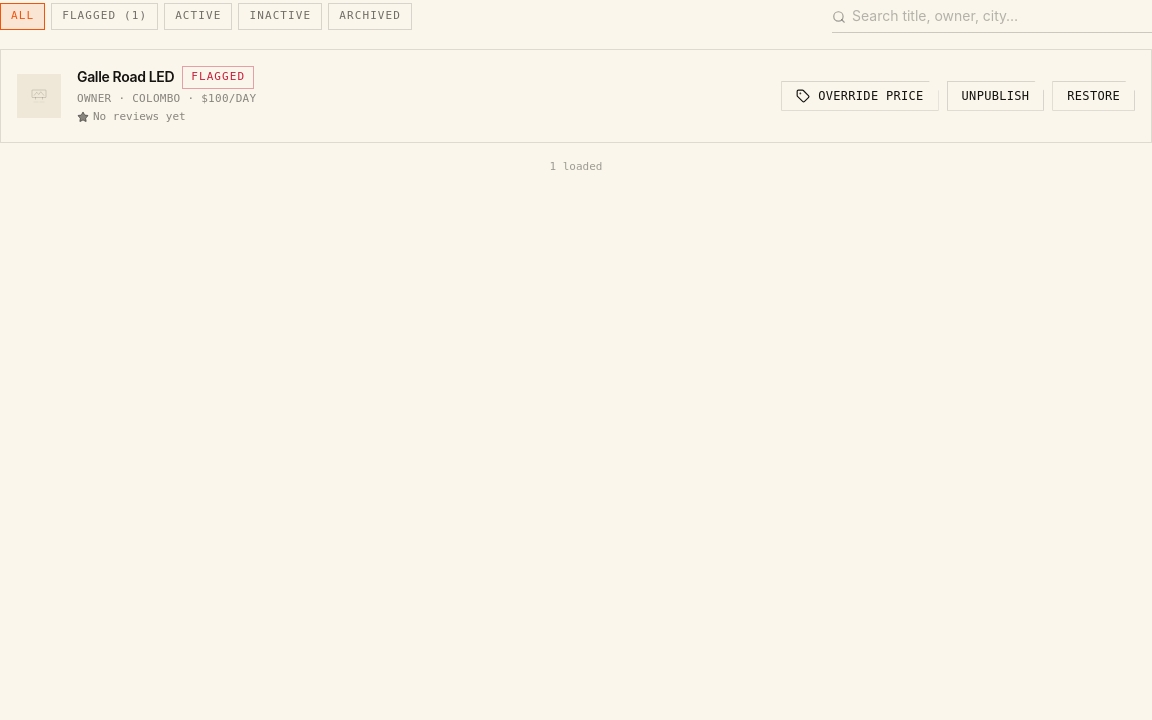
it: ModerationPanel › keeps the dialog open and shows the server error when the change fails
Click the button "Restore" at (1094, 96), box [1052,81,1135,111]
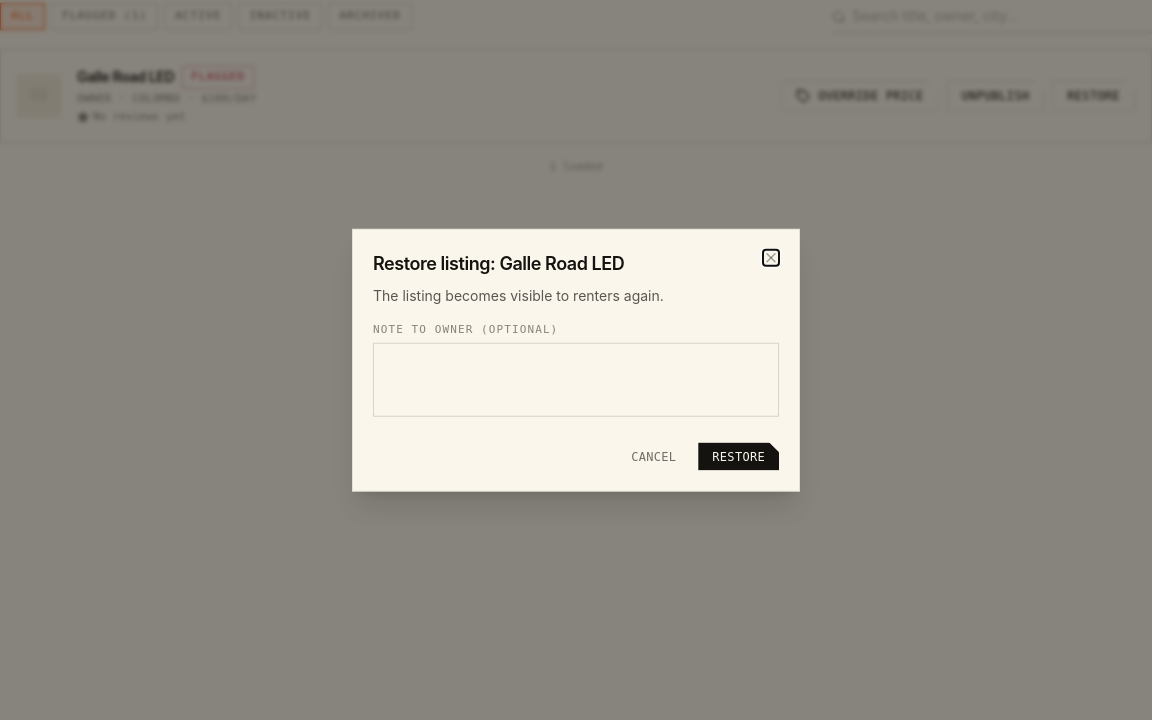
Click the button "Restore" at (739, 456), box [698,442,779,470]
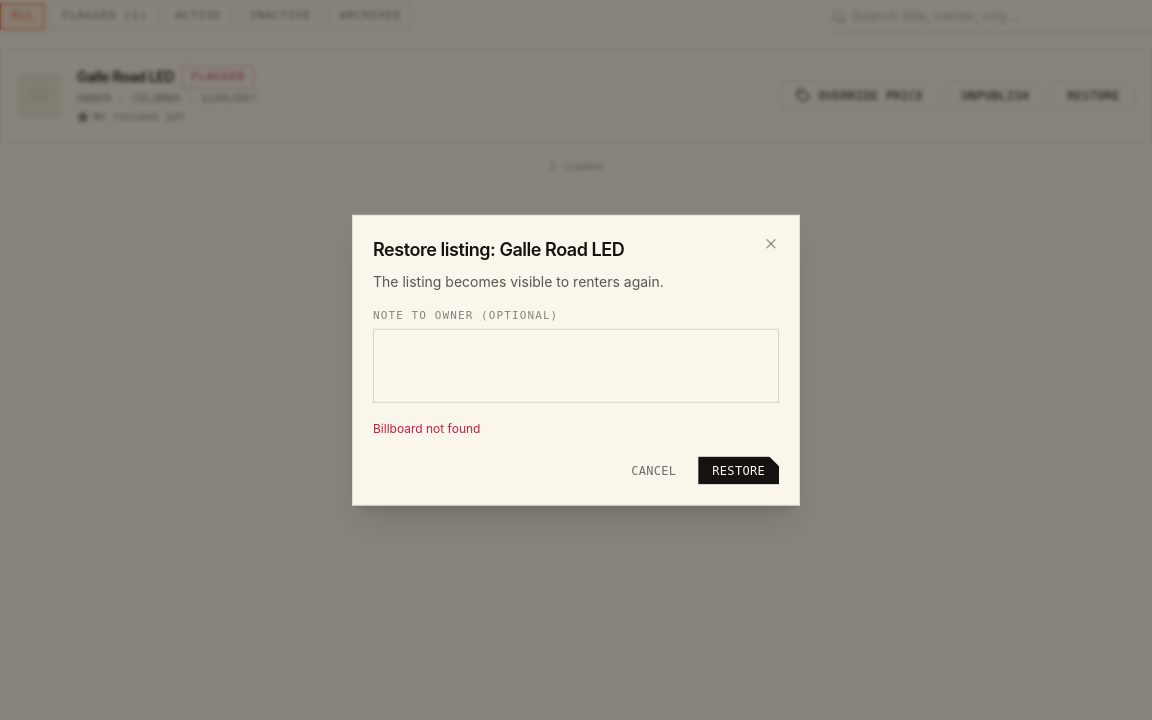
Now the dialog is shown, box [352,215,800,505]
Now the text "Billboard not found" is shown, box [373,420,480,435]
